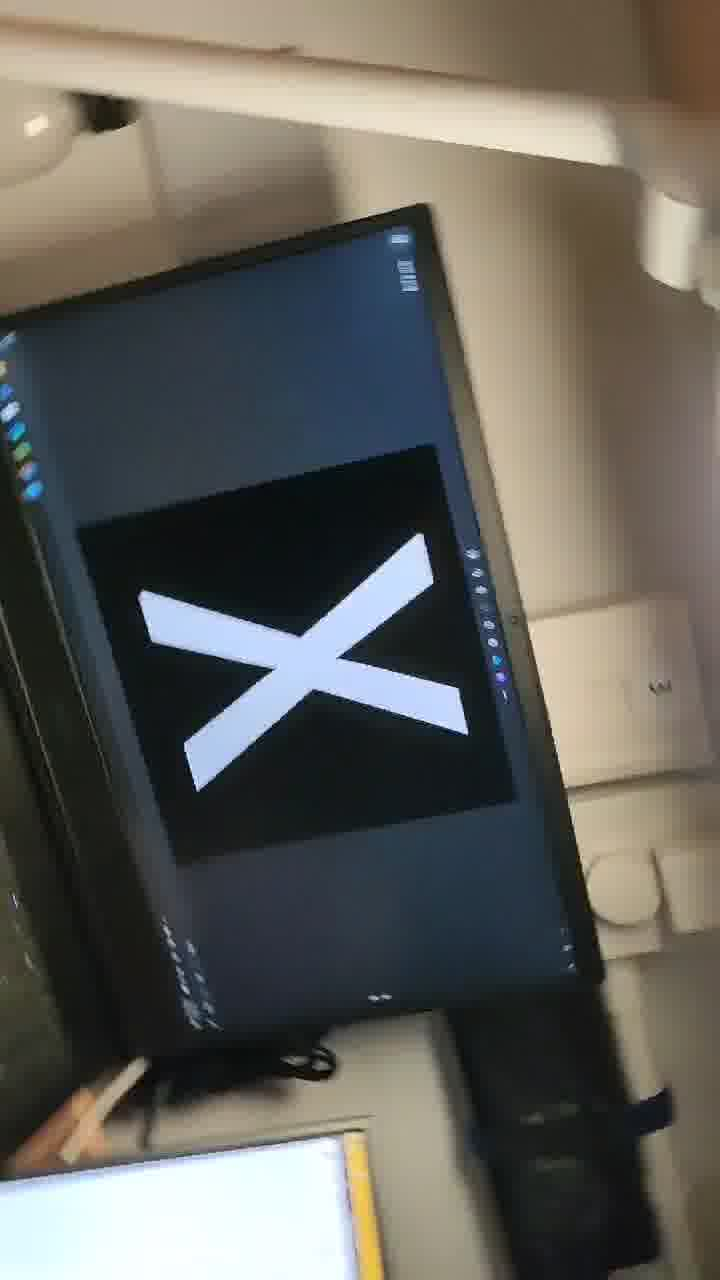X: (110, 505, 557, 831)
